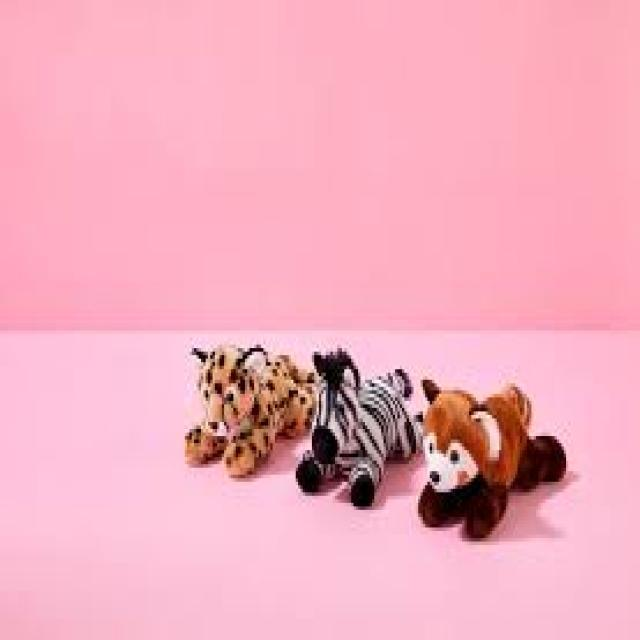soft-toy: (420, 380, 566, 539), (299, 350, 416, 507), (186, 347, 315, 478)
